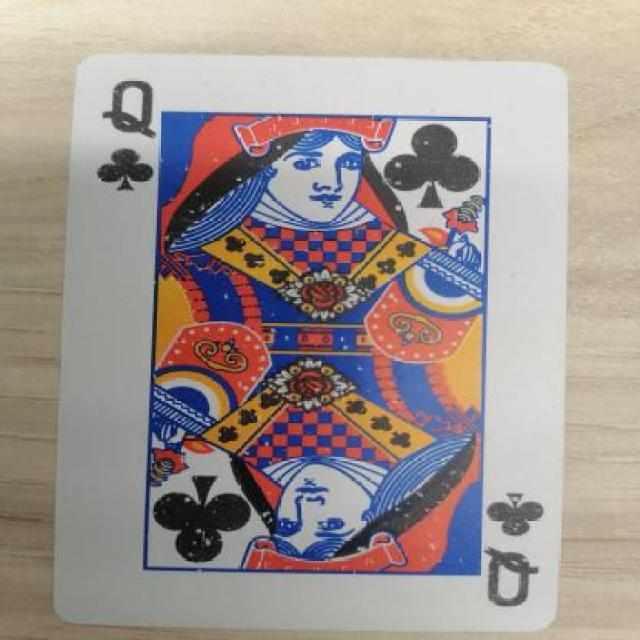QC: (480, 470, 574, 621), (85, 70, 178, 221)
